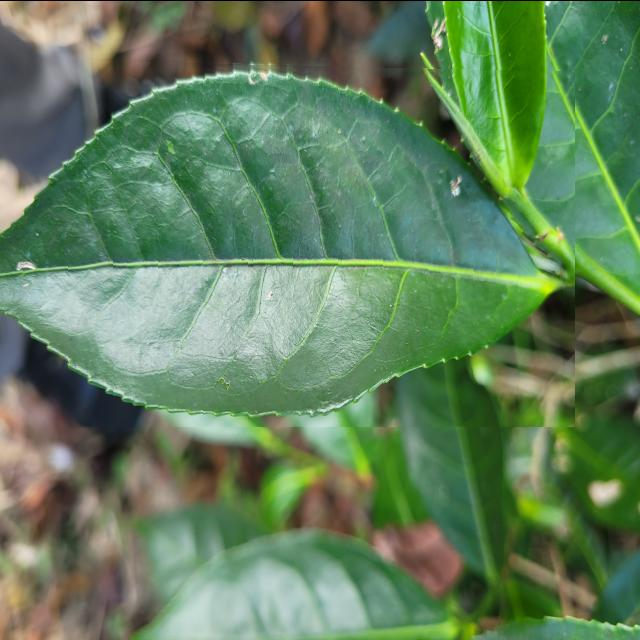Category D(7+ days, Not for Tea): (0, 58, 575, 426)
